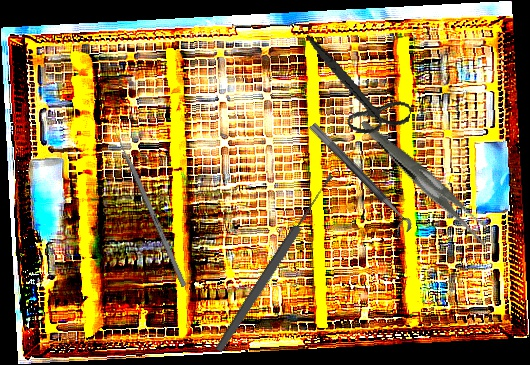Dressing Forceps: (360, 92, 497, 270)
Fixation Ring: (300, 121, 415, 240)
Iris Scissors: (287, 33, 424, 144)
Pusher: (108, 120, 188, 288)
Surgical Spoon: (213, 172, 337, 354)
